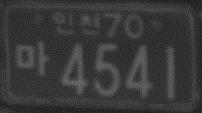0: (124, 12, 144, 39)
1: (160, 47, 185, 98)
4: (124, 44, 153, 98), (59, 43, 89, 95)
5: (93, 42, 121, 96)
7: (102, 12, 122, 38)
마: (14, 41, 50, 76)
인천_O: (52, 10, 100, 37)
